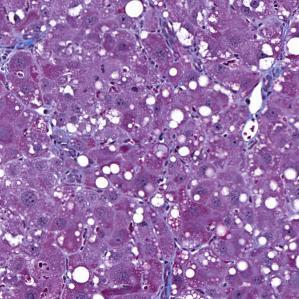fibrosis: (258, 59, 284, 98), (1, 32, 41, 57)
